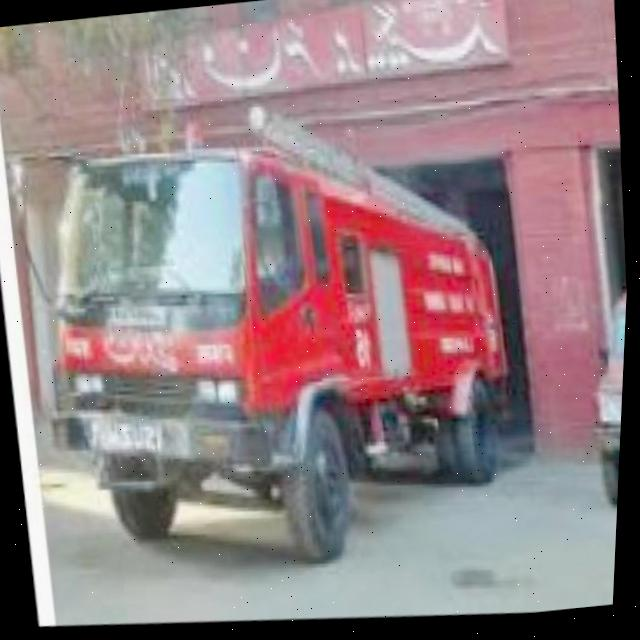emergency: (32, 109, 534, 588)
